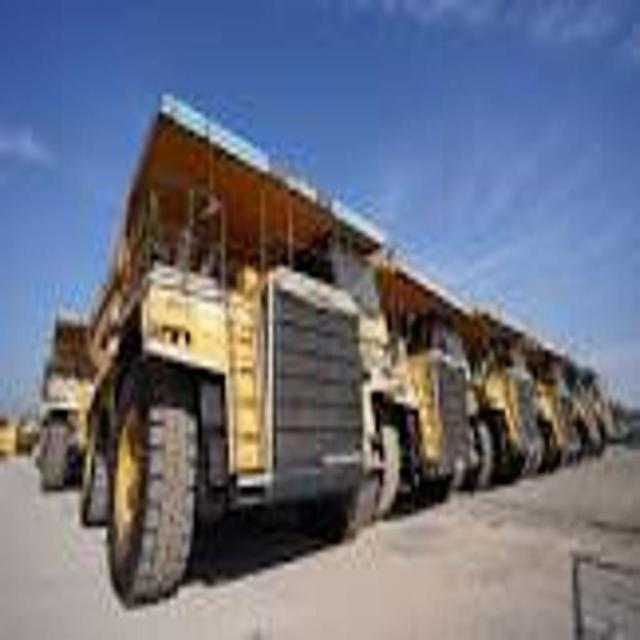dump_truck: (80, 85, 393, 588), (374, 262, 476, 515), (478, 292, 532, 493), (32, 299, 90, 486)
